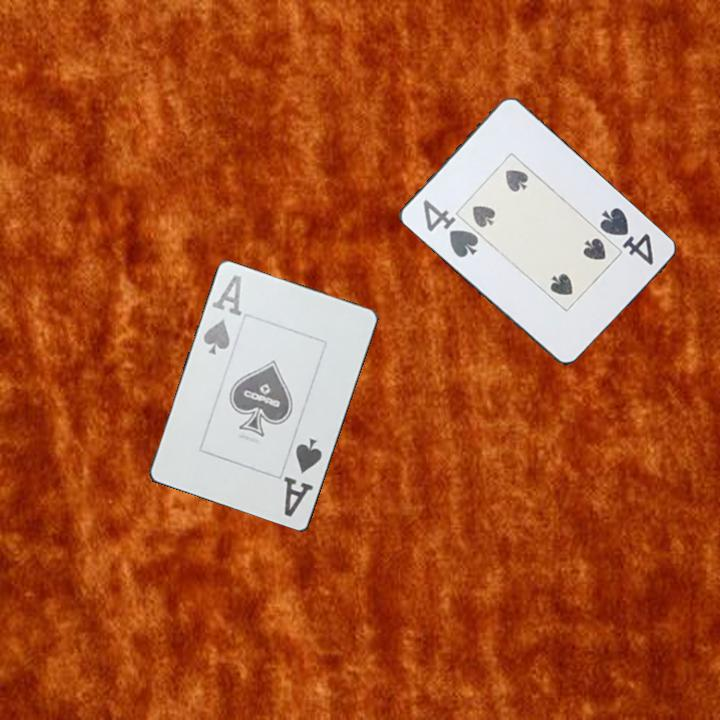4s: (419, 195, 482, 261), (595, 204, 656, 269)
As: (280, 434, 325, 521), (200, 271, 245, 357)
